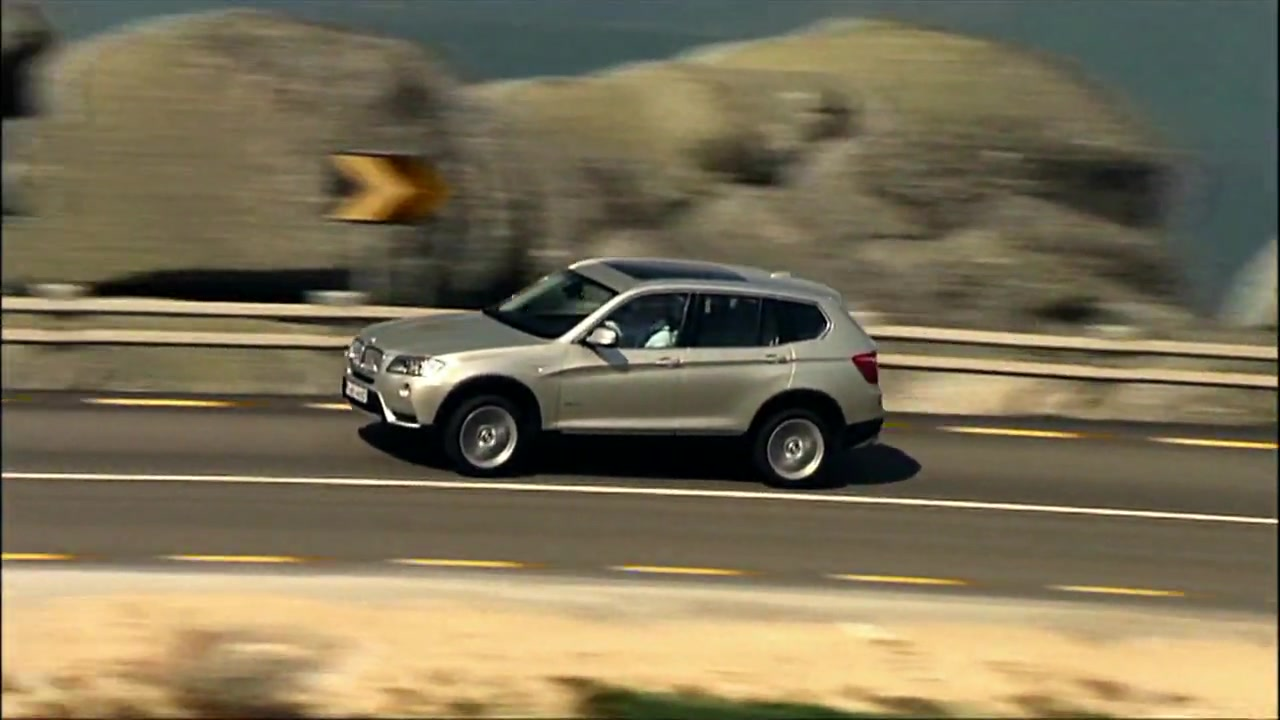car: (340, 245, 891, 494)
